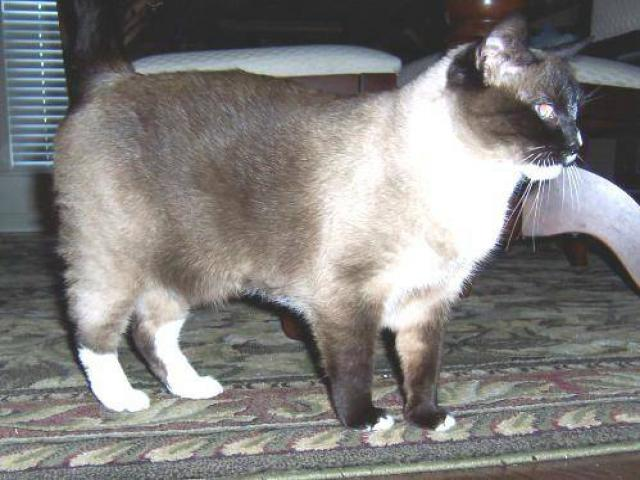cat: (55, 13, 632, 443)
